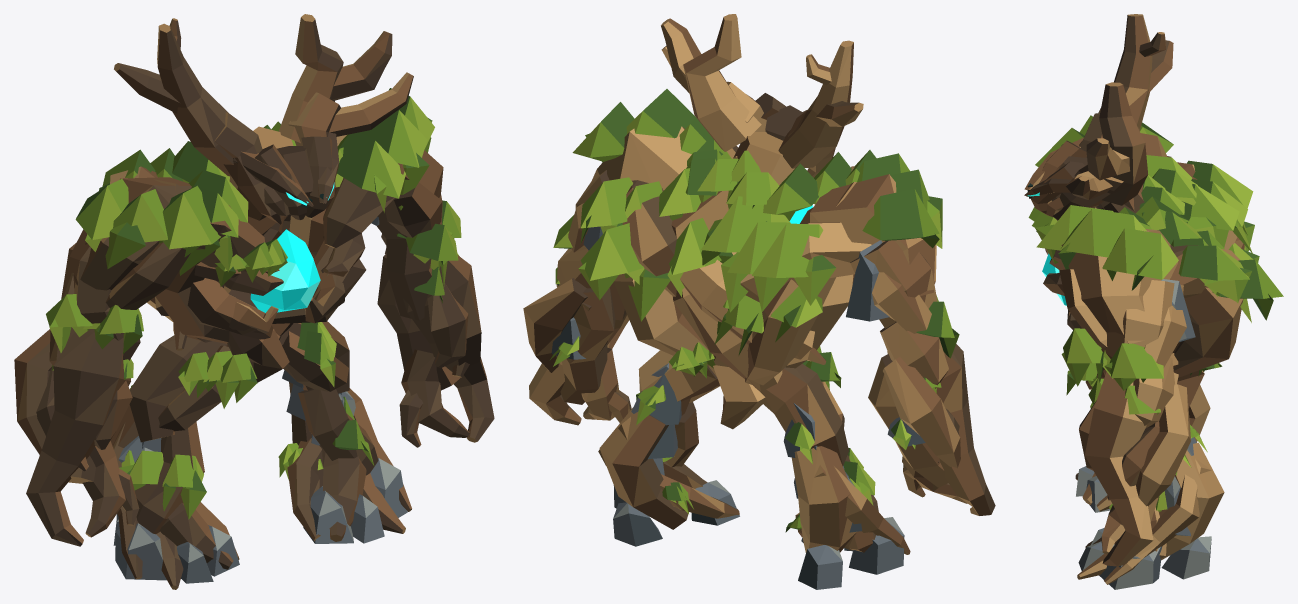
File: tide-root-colossus-complete-pass3.glb
3 views of the same model, side by side, from view 1: azimuth 30°, elevation 25°; view 2: azimuth 150°, elevation 25°; view 3: azimuth 270°, elevation 25° (orthographic). The views are drawn at different scales.
Visible parts, largest first — view 1: Forearm main to outer claw -1, Forearm main to outer claw 1, Crown left main, Thigh load root -1, Crown right main, Exposed turquoise heart, Outer shoulder root -1, Arm descending trunk 1, Forearm root split -1, Calf crossing root -1, Upper arm crossing bark -1, Calf crossing root 1 (+70 smaller); view 2: Crown right main, Calf rear load 1, Calf rear load -1, Forearm root split -1, Thigh load root -1, Forearm main to outer claw -1, Crown left main, Outer shoulder root -1, Forearm inner braid 1, Rear diagonal trunk, Outer shoulder root 1, Flank bowed trunk -1 (+58 smaller); view 3: Forearm main to outer claw 1, Flank bowed trunk 1, Outer shoulder root 1, Forearm root split 1, Crown right main, Outer shoulder growth 1 lobed crown 2, Crown left main, Arm descending trunk 1, Calf rear load 1, Lower leg lateral root 1, Outer shoulder growth 1 lobed crown 1, Right rear shoulder bridge lobed crown 0 (+43 smaller).
Boxes of the visible parts, left/top/right/bottom form: Forearm main to outer claw -1: left=26, top=330, right=130, bottom=546; Forearm main to outer claw 1: left=403, top=255, right=494, bottom=442; Crown left main: left=157, top=23, right=233, bottom=176; Thigh load root -1: left=129, top=335, right=228, bottom=442; Crown right main: left=278, top=14, right=343, bottom=143; Exposed turquoise heart: left=250, top=229, right=320, bottom=312; Outer shoulder root -1: left=73, top=177, right=191, bottom=290; Arm descending trunk 1: left=377, top=195, right=442, bottom=320; Forearm root split -1: left=14, top=329, right=52, bottom=454; Calf crossing root -1: left=135, top=421, right=204, bottom=534; Upper arm crossing bark -1: left=105, top=242, right=190, bottom=309; Calf crossing root 1: left=298, top=389, right=378, bottom=475; Crown right main: left=683, top=14, right=761, bottom=151; Calf rear load 1: left=599, top=408, right=688, bottom=529; Calf rear load -1: left=791, top=446, right=856, bottom=552; Forearm root split -1: left=883, top=357, right=960, bottom=468; Thigh load root -1: left=755, top=363, right=848, bottom=465; Forearm main to outer claw -1: left=936, top=344, right=995, bottom=515; Crown left main: left=778, top=40, right=853, bottom=168; Outer shoulder root -1: left=810, top=174, right=935, bottom=295; Forearm inner braid 1: left=560, top=288, right=615, bottom=404; Rear diagonal trunk: left=671, top=156, right=782, bottom=391; Outer shoulder root 1: left=589, top=126, right=691, bottom=190; Flank bowed trunk -1: left=745, top=277, right=835, bottom=385; Forearm main to outer claw 1: left=1084, top=372, right=1153, bottom=566; Flank bowed trunk 1: left=1173, top=287, right=1243, bottom=376; Outer shoulder root 1: left=1061, top=229, right=1177, bottom=343; Forearm root split 1: left=1136, top=384, right=1191, bottom=506; Crown right main: left=1099, top=82, right=1148, bottom=205; Outer shoulder growth 1 lobed crown 2: left=1102, top=228, right=1178, bottom=279; Crown left main: left=1098, top=14, right=1152, bottom=130; Arm descending trunk 1: left=1097, top=280, right=1183, bottom=378; Calf rear load 1: left=1161, top=442, right=1224, bottom=560; Lower leg lateral root 1: left=1104, top=458, right=1211, bottom=584; Outer shoulder growth 1 lobed crown 1: left=1060, top=209, right=1146, bottom=257; Right rear shoulder bridge lobed crown 0: left=1178, top=245, right=1249, bottom=280.
Bounding box in the file's own units: 5.44 × 5.97 × 2.96.
